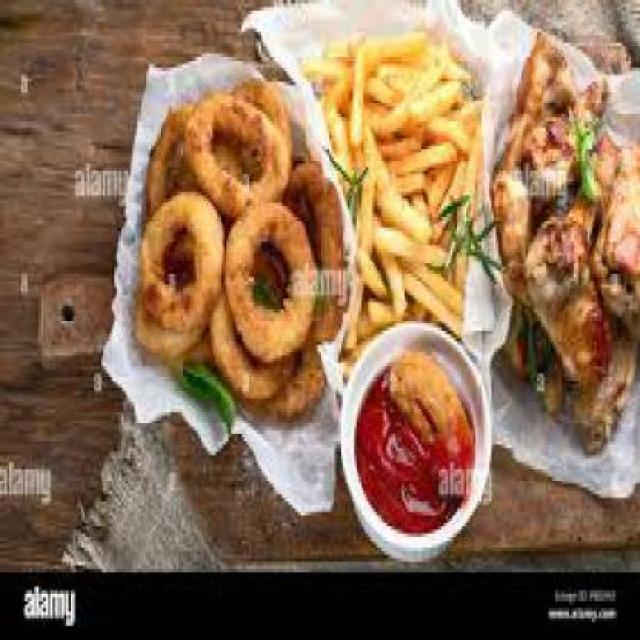chicken wings: (492, 25, 638, 452)
french fries: (302, 21, 488, 342)
onion rings: (134, 67, 340, 438), (386, 344, 471, 456)
